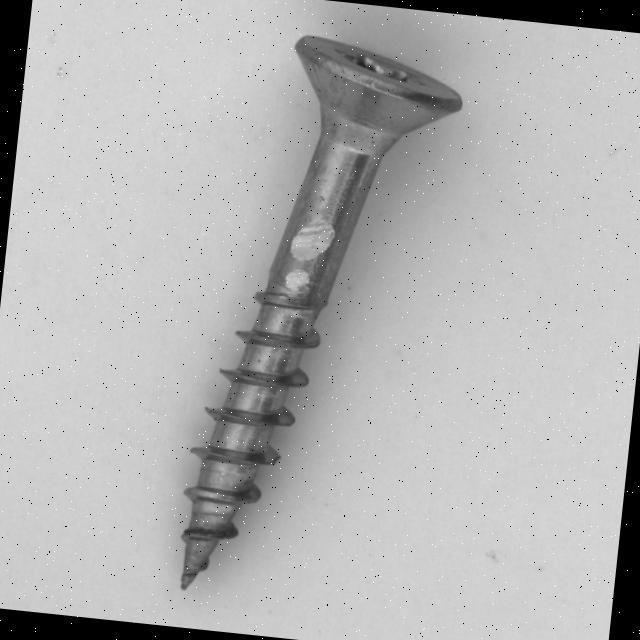scratch_neck: (284, 211, 338, 264), (279, 264, 316, 297)
